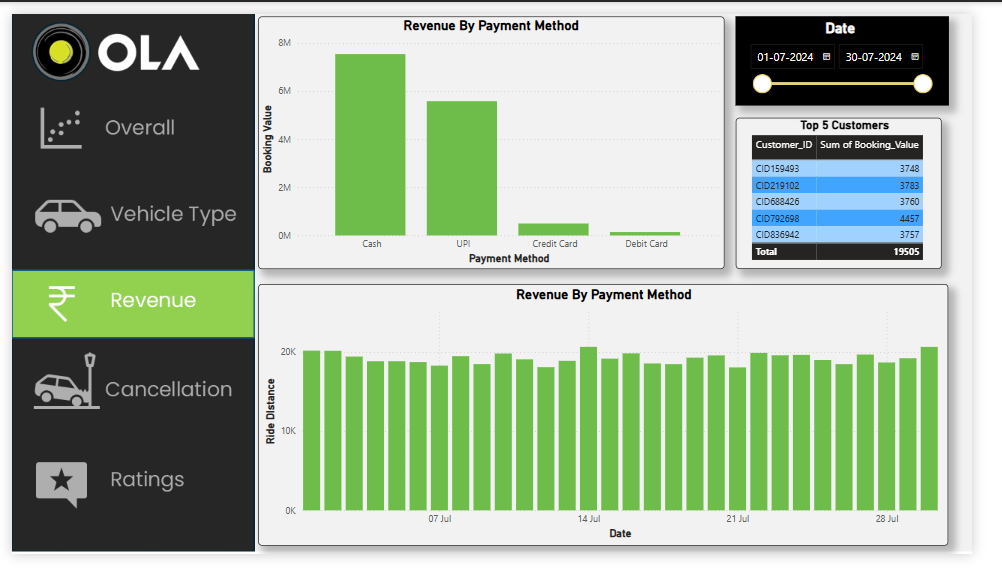

The page's visual inventory and layout, read from the dashboard file:
{"tool":"powerbi","page":{"name":"Page 3","canvas":[1280,720],"ordinal":2},"visuals":[{"type":"actionButton","box":[0,227,325.2,95.7],"z":0},{"type":"actionButton","box":[0,581.6,325.2,95.7],"z":1000},{"type":"actionButton","box":[0,447.9,325.2,95.7],"z":2000},{"type":"actionButton","box":[0,104.3,325.2,95.7],"z":3000},{"type":"columnChart","title":"Revenue By Payment Method","fields":{"Category":["July (2).Payment_Method"],"Y":["Sum(July (2).Booking_Value)"]},"box":[328.6,2.9,621.4,337.1],"z":4000},{"type":"columnChart","title":"Revenue By Payment Method","fields":{"Y":["Sum(July (2).Ride_Distance)"],"Category":["July (2).Date"]},"box":[328.6,360,920,348.6],"z":5000},{"type":"slicer","title":"Date","fields":{"Values":["July (2).Date"]},"box":[964.3,2.9,284.3,118.6],"z":6000},{"type":"tableEx","title":"Top 5 Customers","fields":{"Values":["July (2).Customer_ID","Sum(July (2).Booking_Value)"]},"box":[964.3,138.6,274.3,201.4],"z":7000}]}

Visuals, with their boxes on the page's 1280x720 design canvas (x1, y1, x2, y2). These are canvas units, not pixel positions in the 1002x587 screenshot, which may show the page scaled, cropped or inside an application window:
actionButton: {"left": 0, "top": 227, "right": 325, "bottom": 323}
actionButton: {"left": 0, "top": 582, "right": 325, "bottom": 677}
actionButton: {"left": 0, "top": 448, "right": 325, "bottom": 544}
actionButton: {"left": 0, "top": 104, "right": 325, "bottom": 200}
"Revenue By Payment Method" columnChart: {"left": 329, "top": 3, "right": 950, "bottom": 340}
"Revenue By Payment Method" columnChart: {"left": 329, "top": 360, "right": 1249, "bottom": 709}
"Date" slicer: {"left": 964, "top": 3, "right": 1249, "bottom": 122}
"Top 5 Customers" tableEx: {"left": 964, "top": 139, "right": 1239, "bottom": 340}
